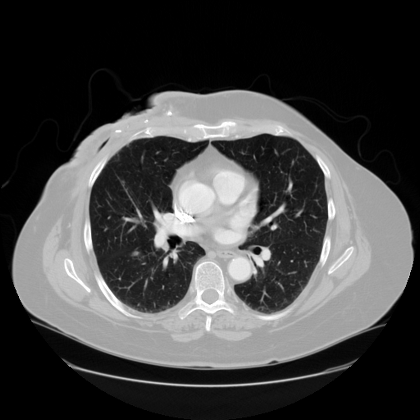nodule: (131, 249, 139, 257)
